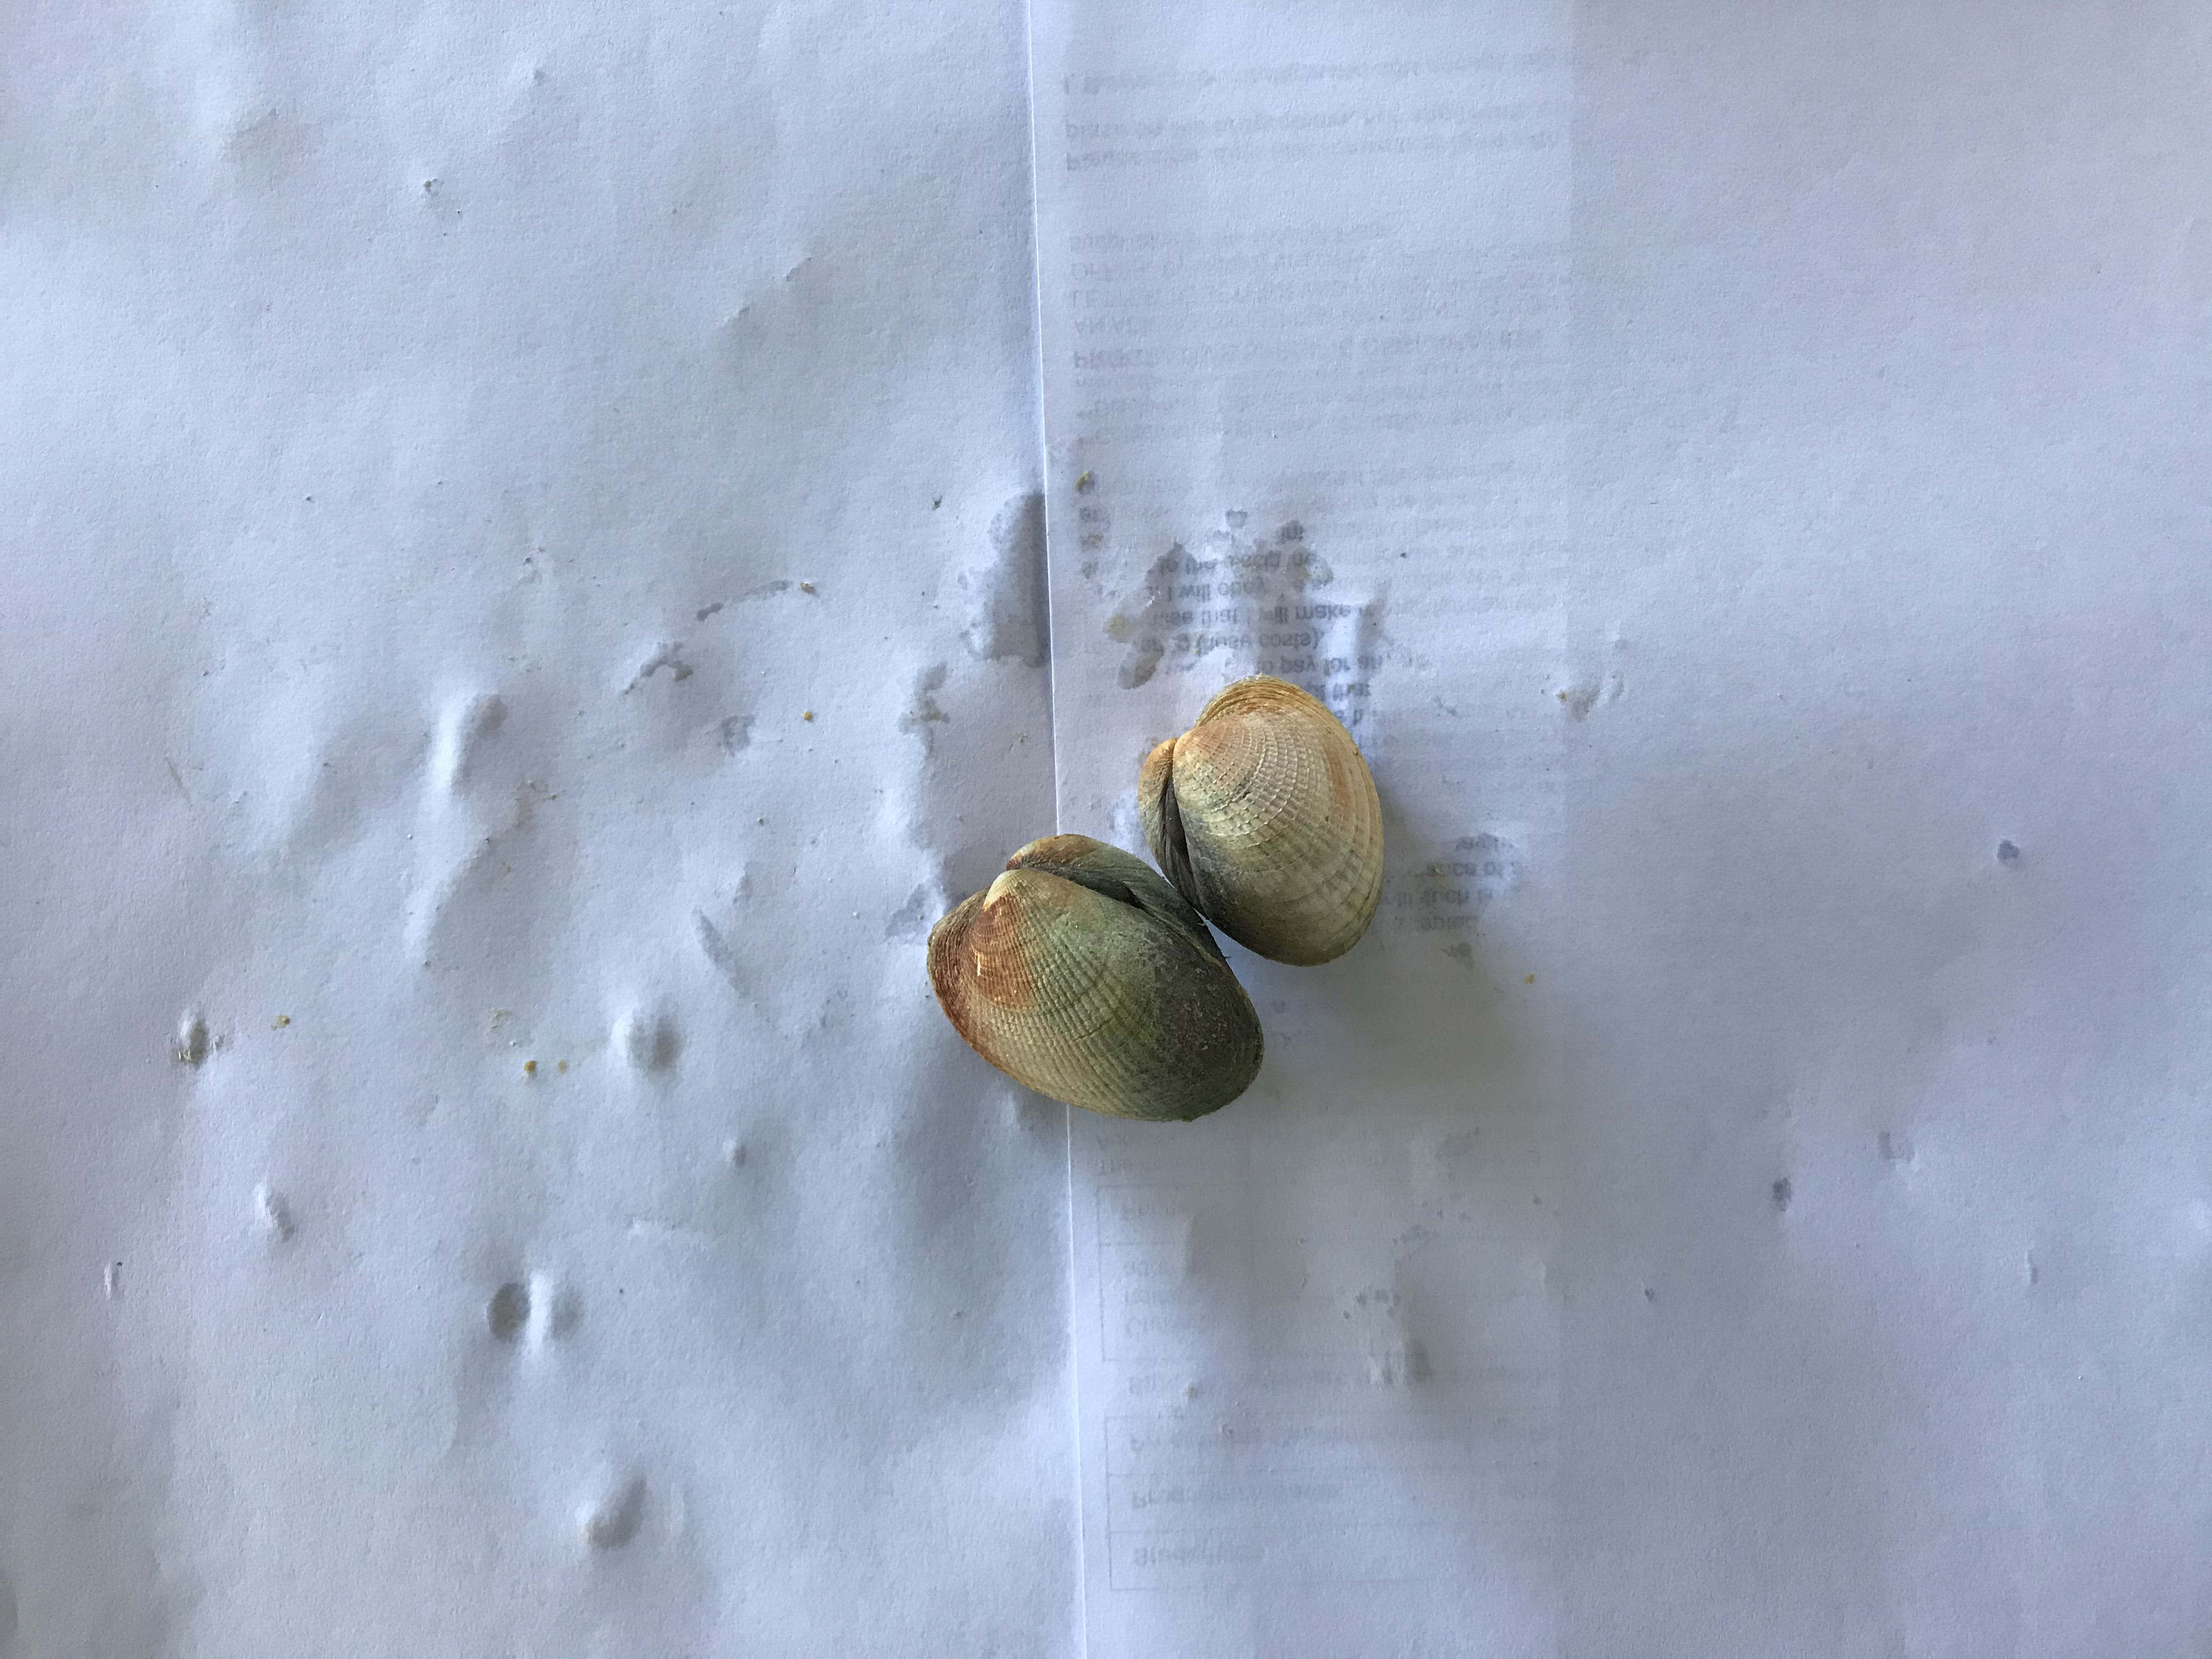cockle: (920, 830, 1278, 1127), (1132, 678, 1388, 972)
